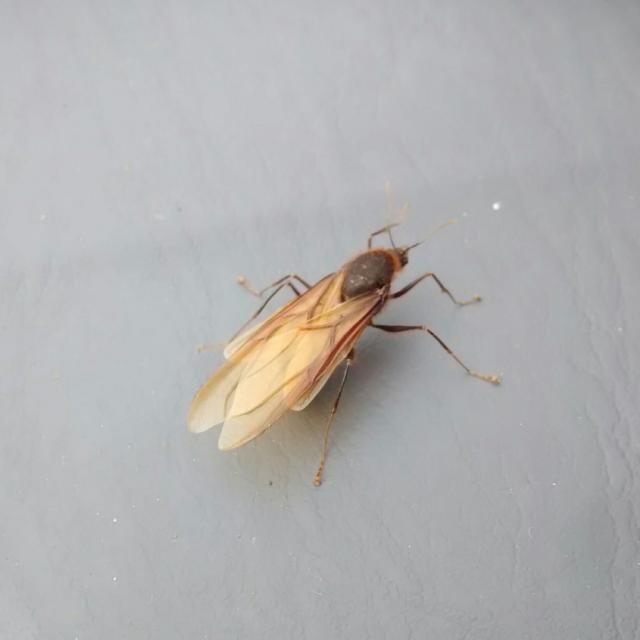Alive-Male-Alate: (184, 179, 502, 489)
